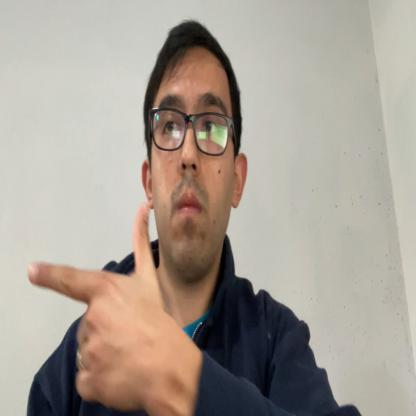G: (27, 202, 158, 412)
